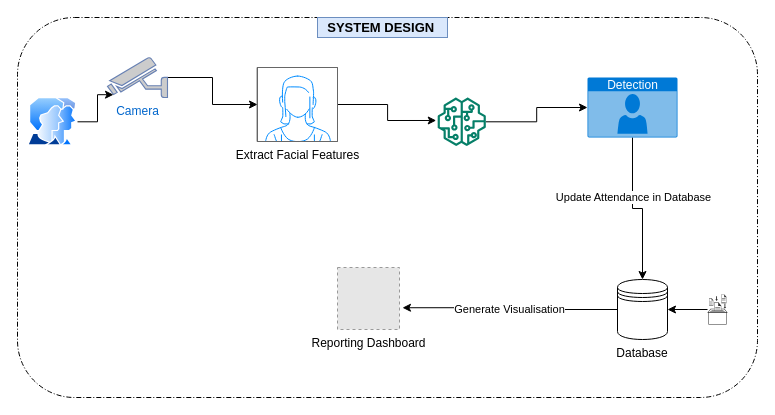
This 775x415 diagram has some shape labels left out. Grey dashed boxes stand in for pictures. Each missing label, with the centre of its shape:
Log Manager: the point at 717,309
Person: the point at 52,121
Recognize Face: the point at 461,121
